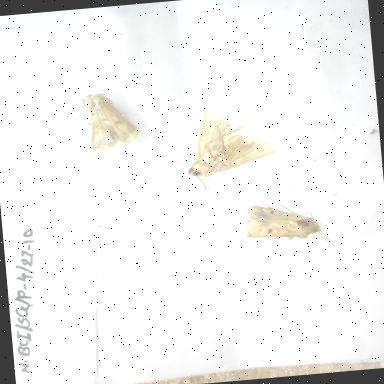abw: (166, 101, 284, 198), (228, 193, 336, 253), (63, 83, 147, 159)
